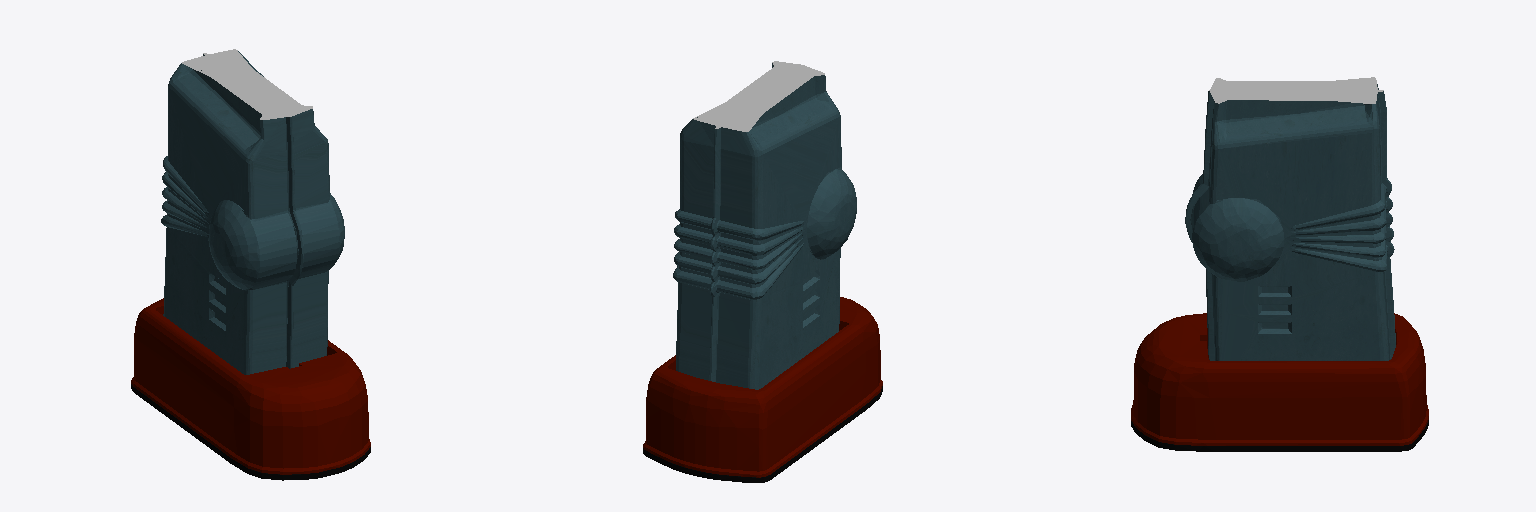
3 renders of one model, left to right at view 1: azimuth 30°, elevation 25°; view 2: azimuth 150°, elevation 25°; view 3: azimuth 270°, elevation 25°, orthographic.
Parts seen in each view (by area): view 1: pierna_izq_11696_robot_v1_L3.003; view 2: pierna_izq_11696_robot_v1_L3.003; view 3: pierna_izq_11696_robot_v1_L3.003.
Part boxes in pixels (bbox=[...]): pierna_izq_11696_robot_v1_L3.003: bbox=[131, 49, 370, 480]; pierna_izq_11696_robot_v1_L3.003: bbox=[643, 61, 882, 482]; pierna_izq_11696_robot_v1_L3.003: bbox=[1131, 77, 1428, 451].
Size of the model in its own units: 0.045 by 0.1135 by 0.0928.
4 materials, 1 textured.